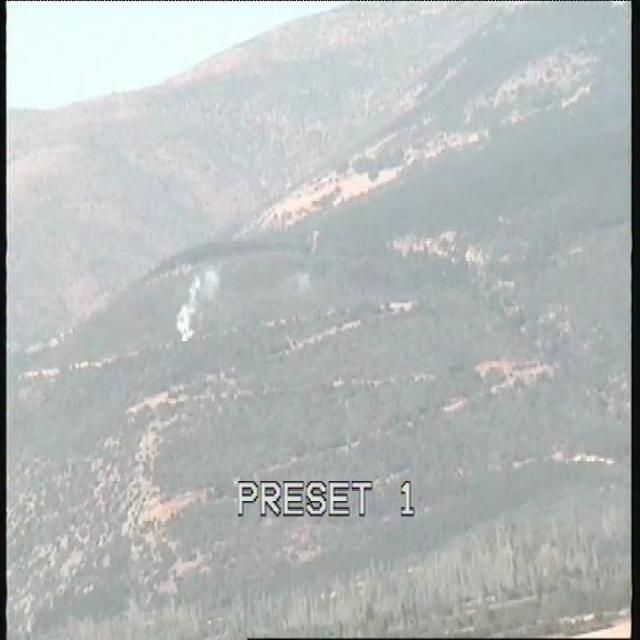smoke: (174, 268, 219, 344)
